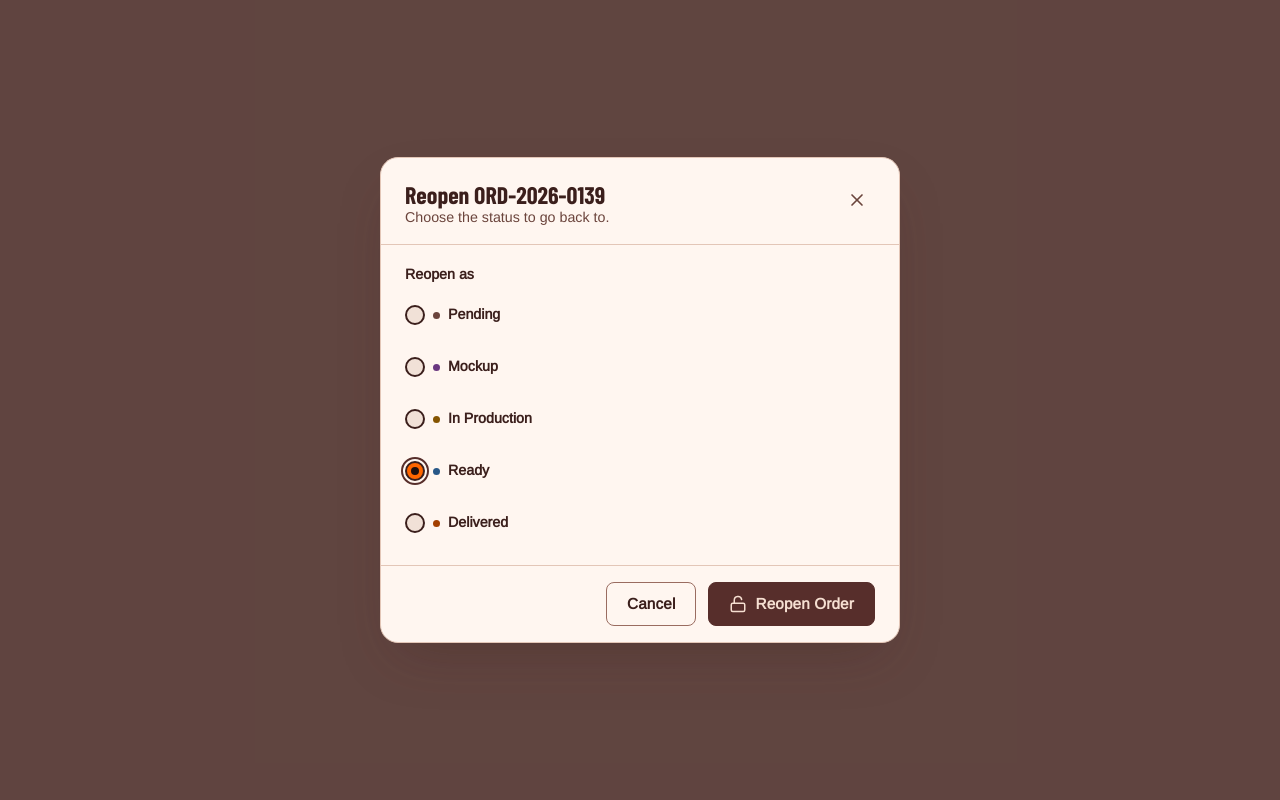
reopening (D-16, 05 D-21) › sends the chosen status with an Idempotency-Key and no version, then closes and toasts
Click the button "Reopen Order". click: (792, 604)
box: [708, 582, 875, 626]
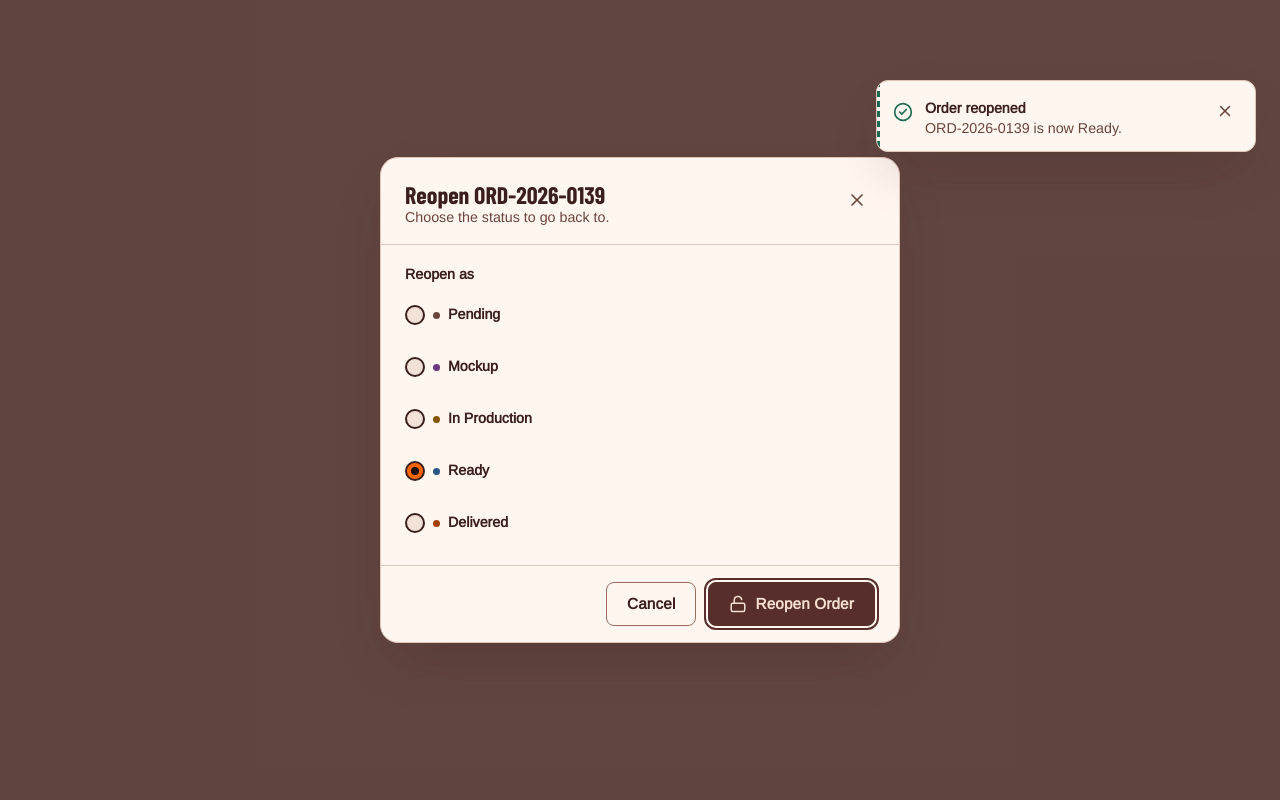
expect the text "Order reopened" is shown: met, box [925, 101, 1026, 116]
expect the text "ORD-2026-0139 is now Ready." is shown: met, box [925, 121, 1122, 136]
